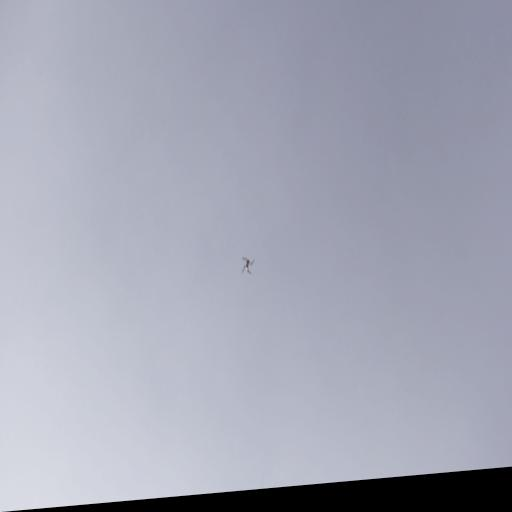drones: (241, 253, 255, 277)
